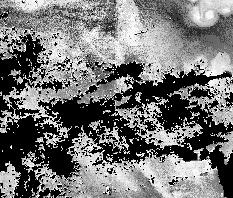CE: (195, 7, 218, 27)
